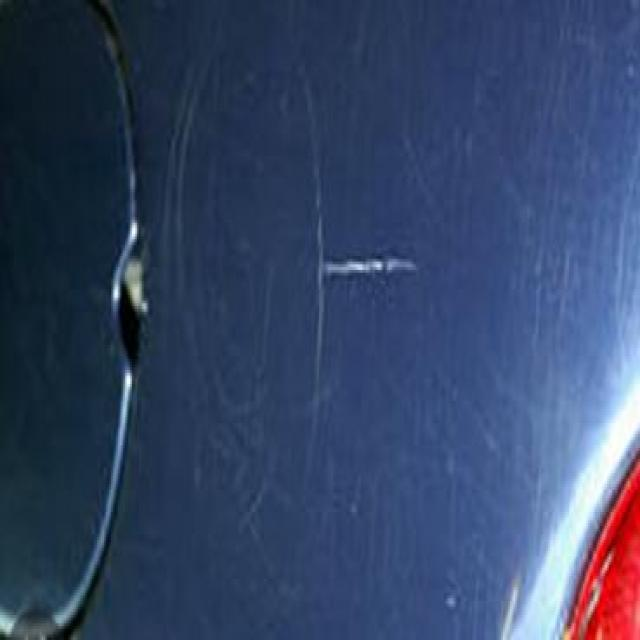scratch: (318, 244, 422, 296)
